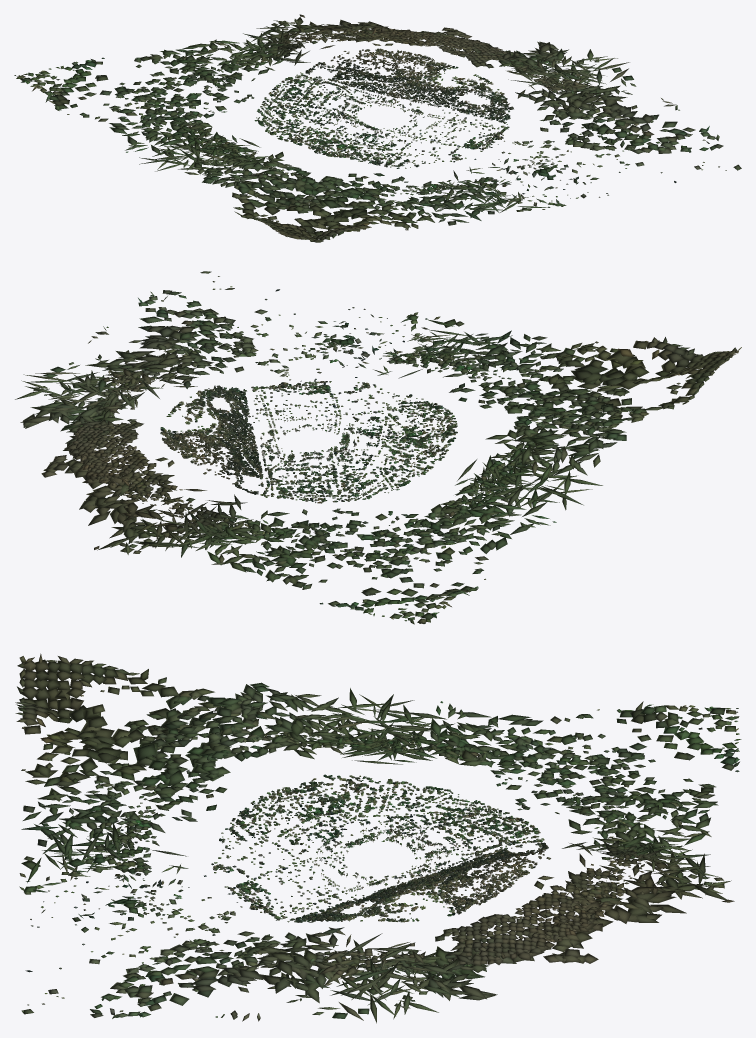
Rendered from north_hobart_backdrop_part2.glb.
3 renders of one model, top to bottom at view 1: azimuth 30°, elevation 25°; view 2: azimuth 150°, elevation 25°; view 3: azimuth 270°, elevation 25°, orthographic. The views are drawn at different scales.
Parts seen in each view (by area): view 1: bg_trees_joined_s11, bg_trees_joined_s09, bg_trees_joined_s08, bg_trees_joined_s15, bg_trees_joined_s14, bg_trees_joined_s12, bg_trees_joined_s13, bg_trees_joined_s10, bg_trees_joined_s05, bg_trees_joined_s04, bg_trees_joined_s03, bg_trees_joined_s06 (+4 smaller); view 2: bg_trees_joined_s09, bg_trees_joined_s08, bg_trees_joined_s15, bg_trees_joined_s14, bg_trees_joined_s11, bg_trees_joined_s13, bg_trees_joined_s12, bg_trees_joined_s10, bg_trees_joined_s05, bg_trees_joined_s00, bg_trees_joined_s07, bg_trees_joined_s04 (+4 smaller); view 3: bg_trees_joined_s09, bg_trees_joined_s08, bg_trees_joined_s11, bg_trees_joined_s15, bg_trees_joined_s14, bg_trees_joined_s12, bg_trees_joined_s13, bg_trees_joined_s10, bg_trees_joined_s00, bg_trees_joined_s07, bg_trees_joined_s04, bg_trees_joined_s05 (+4 smaller).
Part boxes in pixels (x1,y1,x2,y2): bg_trees_joined_s11: (503,62,723,153); bg_trees_joined_s09: (285,158,512,242); bg_trees_joined_s08: (155,138,350,236); bg_trees_joined_s15: (14,75,271,164); bg_trees_joined_s14: (18,31,319,101); bg_trees_joined_s12: (419,27,617,81); bg_trees_joined_s13: (256,14,442,55); bg_trees_joined_s10: (453,137,741,211); bg_trees_joined_s05: (321,48,416,107); bg_trees_joined_s04: (391,54,492,112); bg_trees_joined_s03: (409,83,510,132); bg_trees_joined_s06: (262,62,367,112); bg_trees_joined_s09: (398,330,738,413); bg_trees_joined_s08: (441,347,741,496); bg_trees_joined_s15: (352,466,583,623); bg_trees_joined_s14: (166,485,424,624); bg_trees_joined_s11: (23,290,255,398); bg_trees_joined_s13: (65,445,221,554); bg_trees_joined_s12: (15,377,178,477); bg_trees_joined_s10: (200,271,464,384); bg_trees_joined_s05: (166,440,292,484); bg_trees_joined_s00: (339,413,457,463); bg_trees_joined_s07: (318,443,434,501); bg_trees_joined_s04: (161,401,279,446); bg_trees_joined_s09: (15,658,260,864); bg_trees_joined_s08: (19,653,388,792); bg_trees_joined_s11: (90,918,395,1023); bg_trees_joined_s15: (368,694,736,803); bg_trees_joined_s14: (509,708,741,864); bg_trees_joined_s12: (364,894,598,1019); bg_trees_joined_s13: (502,848,734,948); bg_trees_joined_s10: (19,853,252,1014); bg_trees_joined_s00: (263,775,380,846); bg_trees_joined_s07: (379,778,496,845); bg_trees_joined_s04: (379,871,497,921); bg_trees_joined_s05: (406,847,547,894).
Size of the model in its own units: 3118 by 293 by 3044.
1 material, 1 textured.
